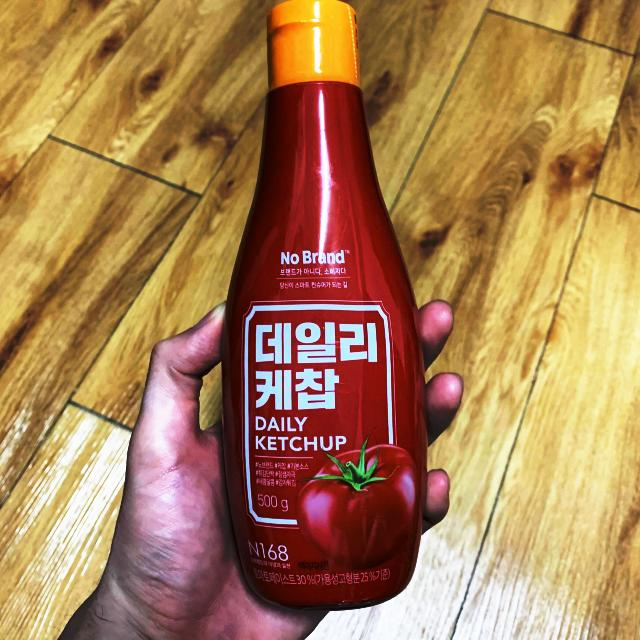ketchup: (214, 0, 443, 617)
